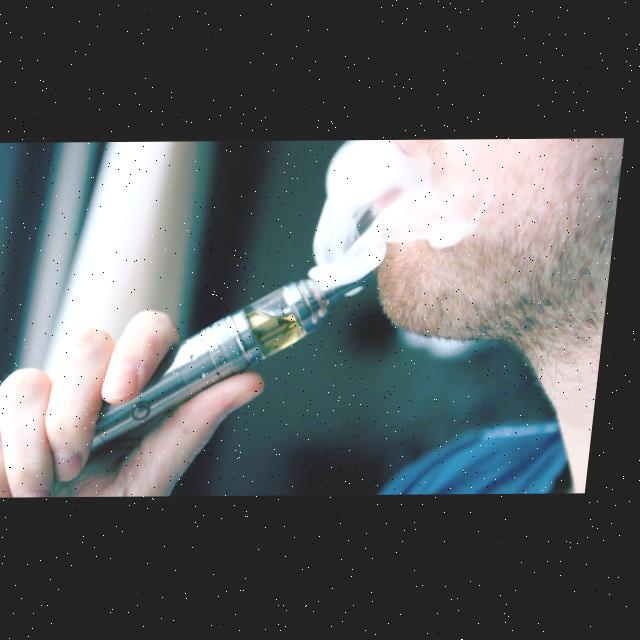vape: (101, 266, 382, 451)
